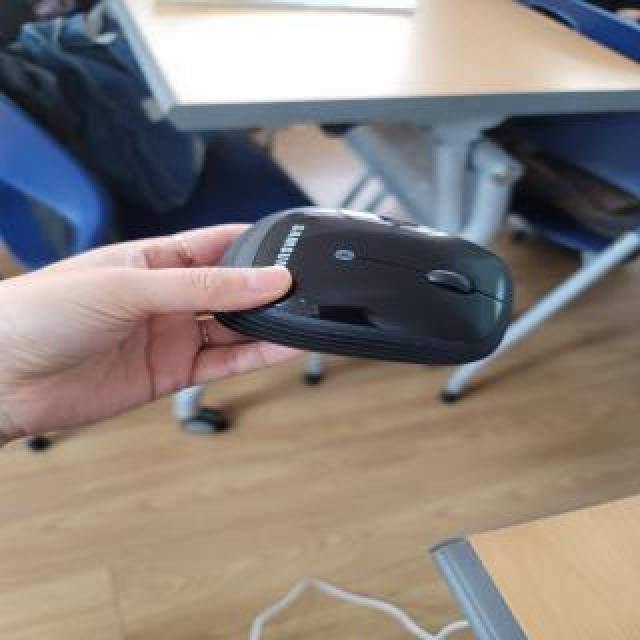mouse: (208, 215, 550, 386)
